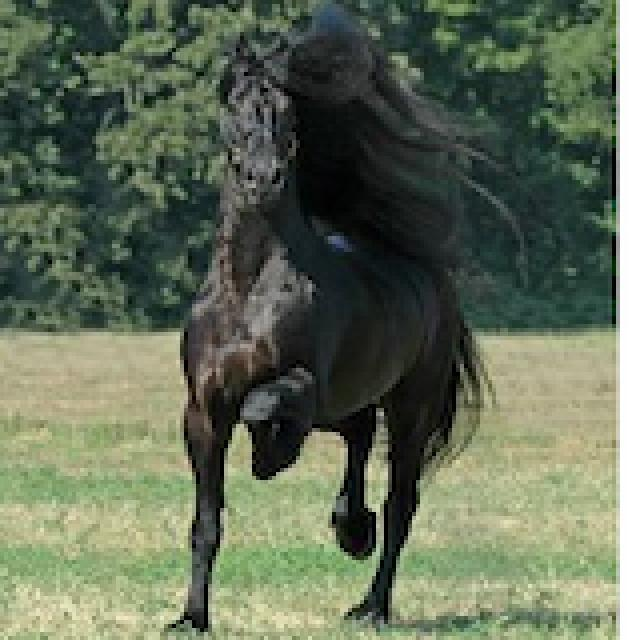Horse: (152, 0, 528, 636)
